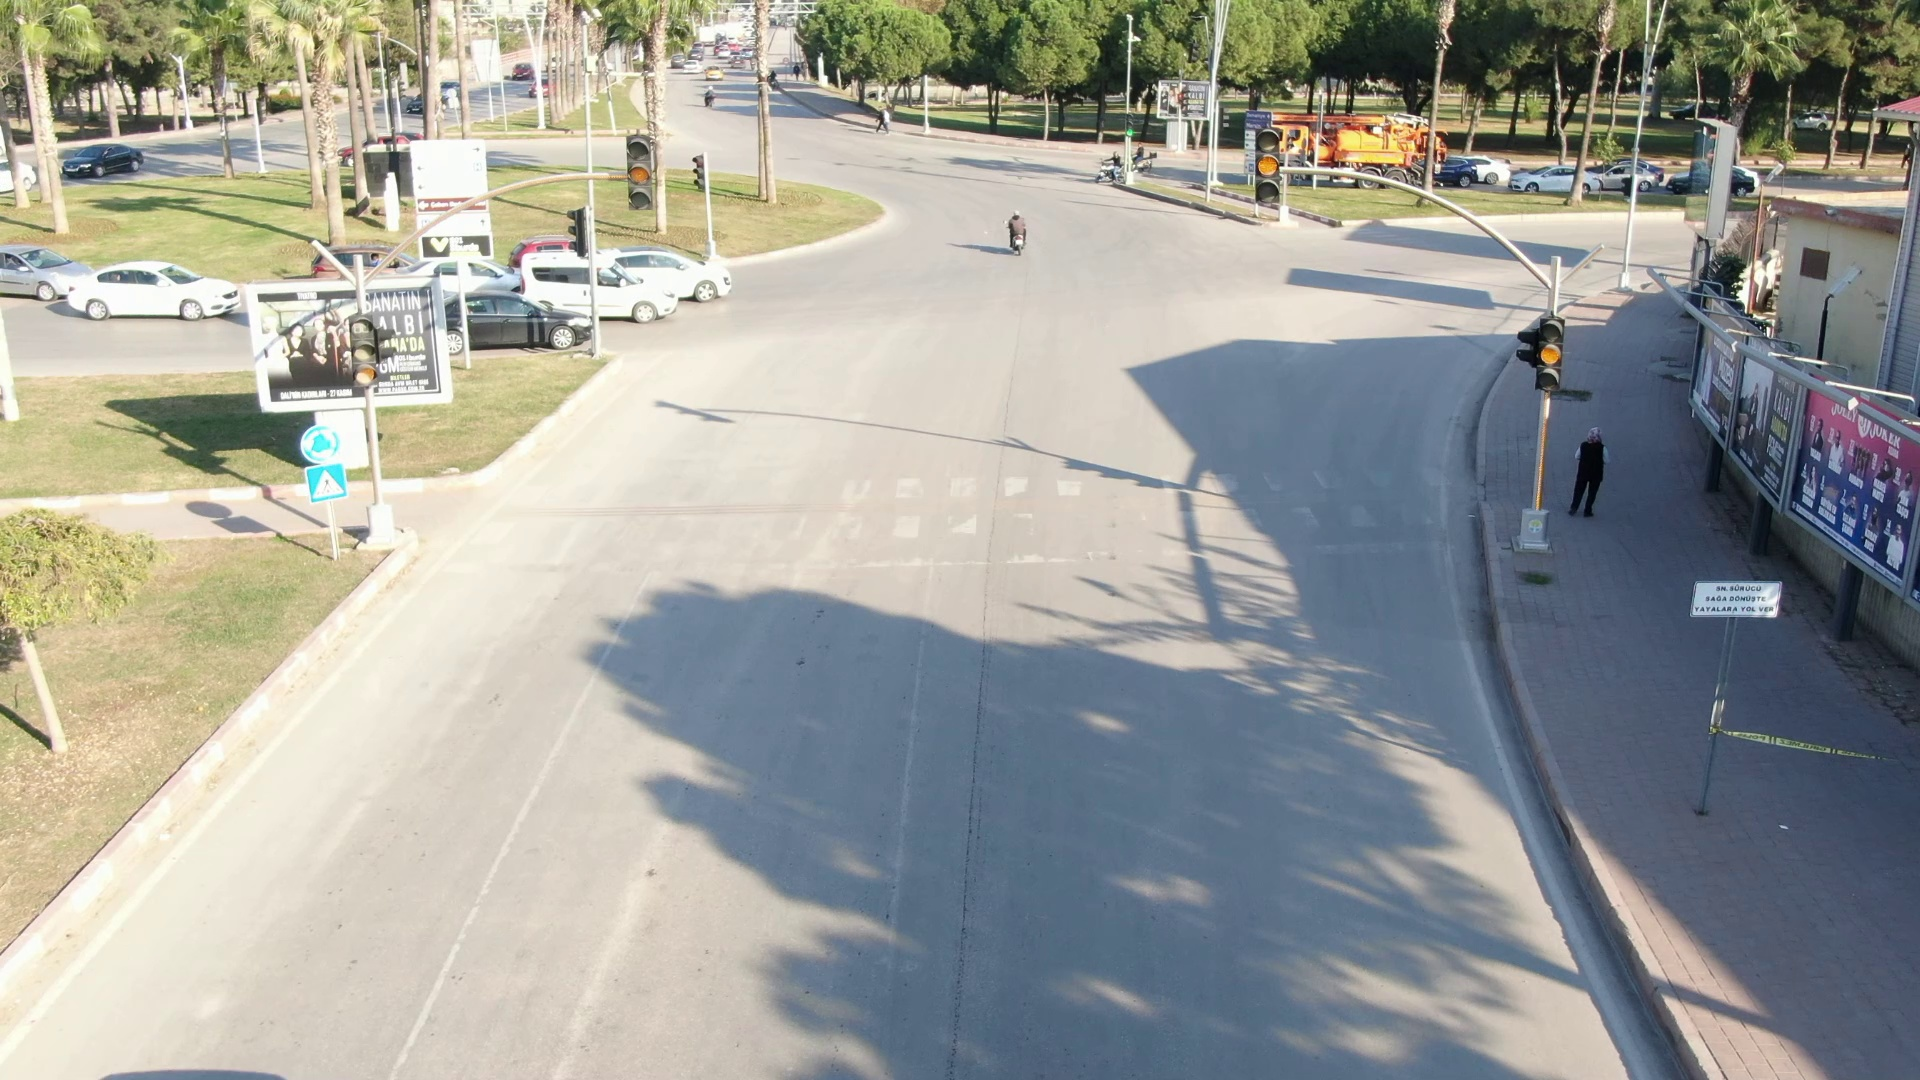car: (508, 241, 680, 317), (53, 255, 251, 315)
person: (1561, 396, 1610, 527), (998, 204, 1041, 259)
